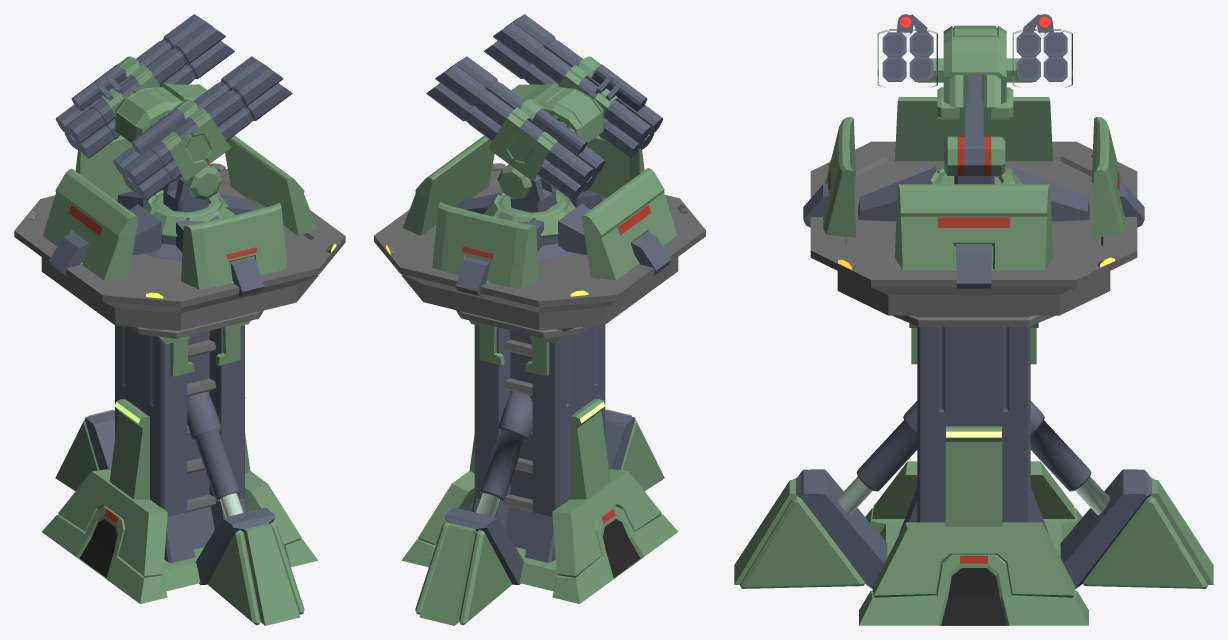
The model's file is Rocket_turret.fbx.
3 views of the same model, side by side, from view 1: azimuth 30°, elevation 25°; view 2: azimuth 150°, elevation 25°; view 3: azimuth 270°, elevation 25° (orthographic). The views are drawn at different scales.
Visible parts, largest first — view 1: Cube.036, Cube.038, Cube.037, Cylinder.004, Cylinder.002, Cylinder.006, Cylinder.001, Cylinder.003, Cylinder.007, Cylinder.005; view 2: Cube.036, Cube.038, Cube.037, Cylinder.004, Cylinder.002, Cylinder.006, Cylinder.001, Cylinder.003, Cylinder.007, Cylinder.005; view 3: Cube.036, Cube.038, Cube.037, Cylinder.001, Cylinder.003, Cylinder.004, Cylinder.002, Cylinder.007, Cylinder.005, Cylinder.006.
Part boxes in pixels (box(x1,y1,x2,y2)): Cube.036: box(42, 320, 317, 625); Cube.038: box(43, 135, 316, 296); Cube.037: box(14, 169, 345, 338); Cylinder.004: box(55, 14, 292, 200); Cylinder.002: box(142, 164, 234, 260); Cylinder.006: box(99, 56, 231, 181); Cylinder.001: box(187, 392, 243, 517); Cylinder.003: box(114, 83, 207, 142); Cylinder.007: box(117, 189, 265, 255); Cylinder.005: box(71, 64, 186, 155); Cube.036: box(401, 320, 678, 625); Cube.038: box(403, 135, 677, 296); Cube.037: box(374, 170, 705, 338); Cylinder.004: box(426, 14, 663, 200); Cylinder.002: box(483, 164, 575, 260); Cylinder.006: box(487, 56, 619, 181); Cylinder.001: box(476, 391, 532, 516); Cylinder.003: box(511, 83, 604, 142); Cylinder.007: box(454, 190, 602, 254); Cylinder.005: box(531, 64, 647, 155); Cube.036: box(734, 323, 1213, 625); Cube.038: box(803, 97, 1144, 288); Cube.037: box(810, 141, 1137, 326); Cylinder.001: box(838, 401, 1109, 514); Cylinder.003: box(918, 25, 1032, 119); Cylinder.004: box(882, 32, 1067, 81); Cylinder.002: box(927, 74, 1022, 184); Cylinder.007: box(858, 167, 1089, 221); Cylinder.005: box(897, 14, 1053, 32); Cylinder.006: box(877, 29, 1072, 87).
Size of the model in its own units: 135 by 258 by 194.
